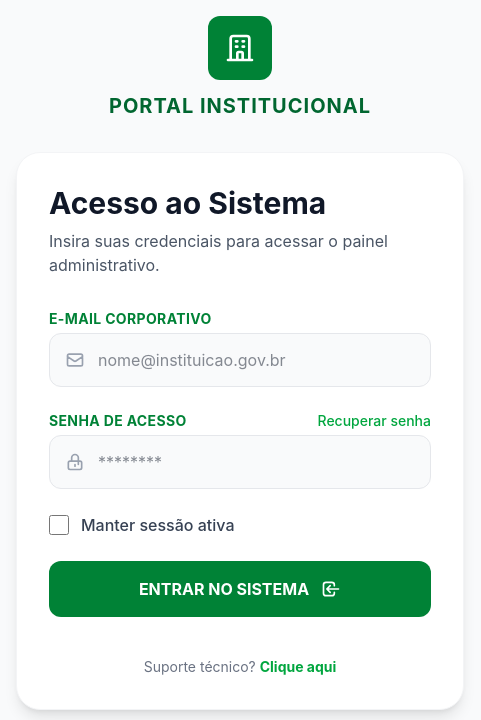
Test: LoginPage Component › shows error message on failed login
This screenshot has width=481, height=720.
Step 1. Type "user@test.com" into the field with placeholder "nome@instituicao.gov.br" → (240, 360), box [49,333,431,387]
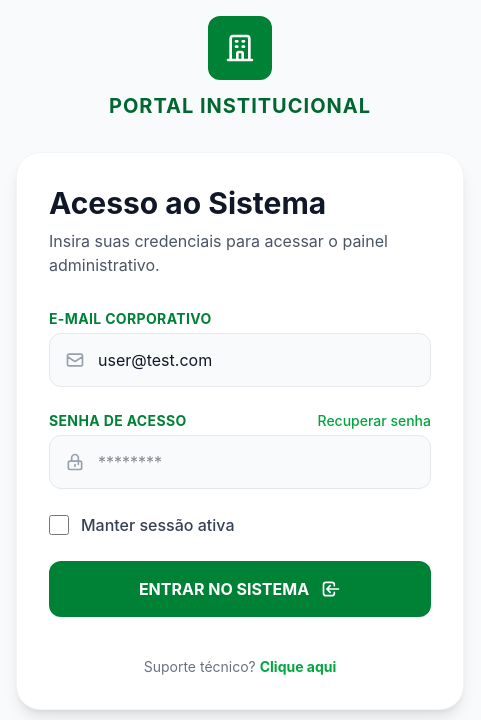
Step 2. Type "wrongpassword" into the password field with placeholder "********" → (240, 462), box [49,435,431,489]
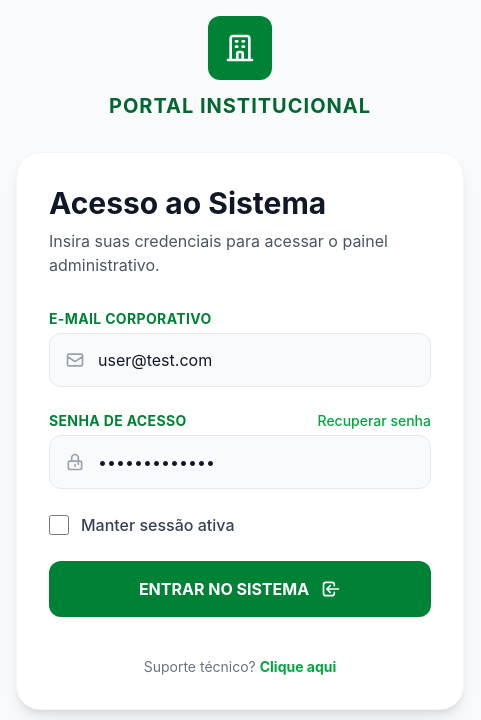
Step 3. Click the button "ENTRAR NO SISTEMA" → (240, 589), box [49,561,431,617]
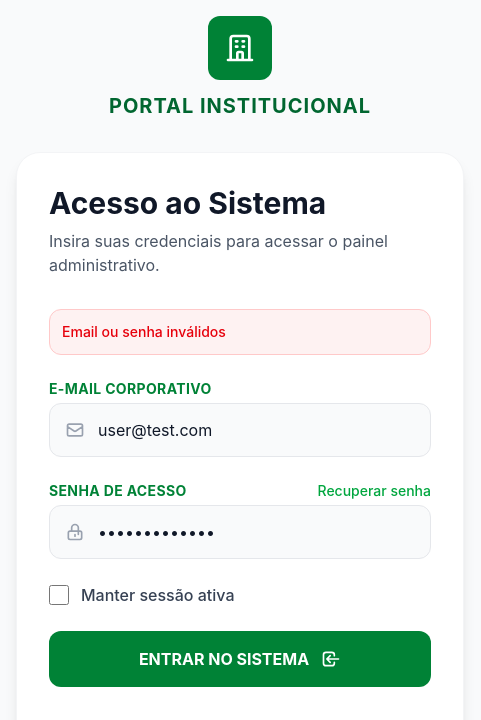
Result: the text "Email ou senha inválidos" is shown at [49,309,431,355]
